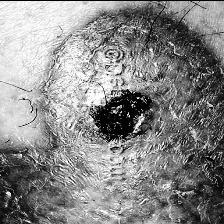Unclassified: (90, 84, 148, 134)
